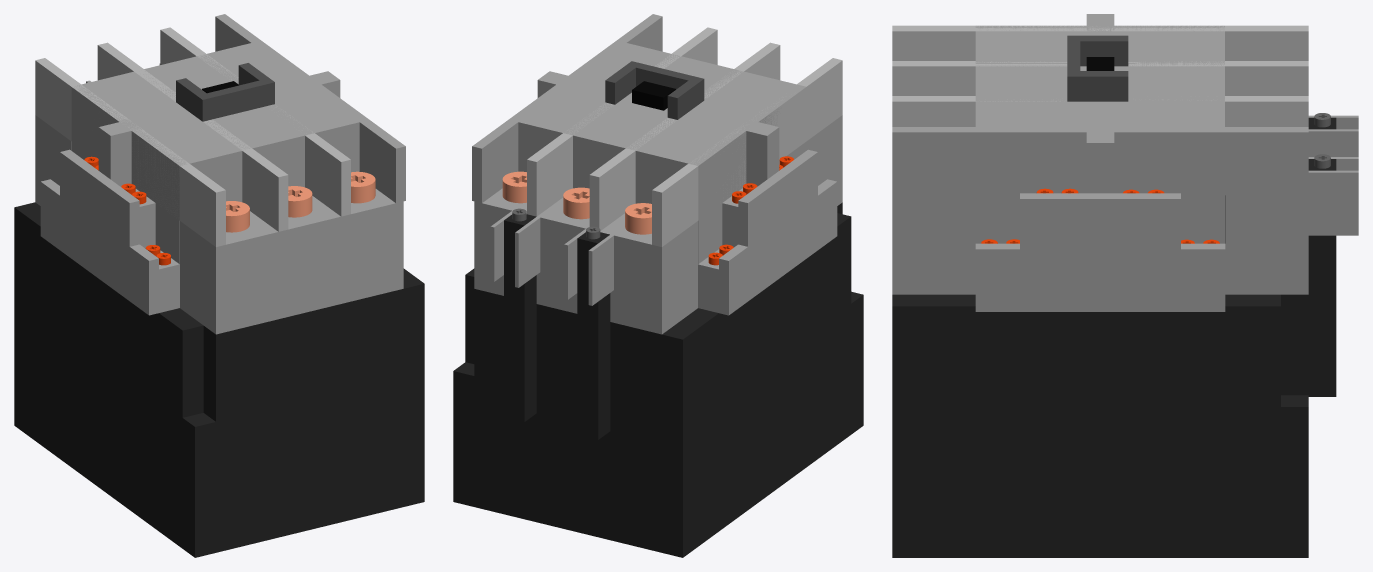
File: [2020]magnetic kontaktor.fbx
The picture shows the model from 3 angles, left to right: view 1: azimuth 30°, elevation 25°; view 2: azimuth 150°, elevation 25°; view 3: azimuth 270°, elevation 25°; orthographic projection. The views are drawn at different scales.
Visible parts, largest first — view 1: Group1, Group2, Group23, Group31, Group26, Group24, Group25, Group32, Group30, Group27, Group33, Group19 (+9 smaller); view 2: Group1, Group2, Group20, Group31, Group26, Group63, Group60, Group30, Group32, Group27, Group33, Group21 (+16 smaller); view 3: Group1, Group2, Group30, Group29, Group28, Group22, Group25, Group31, Group32, Group33, Group60, Group64 (+4 smaller).
Boxes of the visible parts, x1,y1,x2,y2 form: Group1: (14,202,424,557); Group2: (71,41,366,307); Group23: (180,211,278,334); Group31: (35,58,225,246); Group26: (40,179,158,315); Group24: (278,196,341,318); Group25: (341,189,403,303); Group32: (97,42,288,231); Group30: (215,14,405,203); Group27: (60,149,139,246); Group33: (160,27,350,216); Group19: (98,71,340,186); Group1: (453,202,863,557); Group2: (512,42,806,264); Group20: (600,213,697,334); Group31: (652,58,842,246); Group26: (719,179,837,315); Group63: (577,232,610,439); Group60: (504,214,536,421); Group30: (472,14,662,203); Group32: (589,42,780,230); Group27: (738,149,817,246); Group33: (527,27,717,216); Group21: (536,197,589,313); Group1: (892,195,1308,557); Group2: (975,25,1224,243); Group30: (892,127,1308,195); Group29: (975,243,1225,311); Group28: (1020,193,1180,261); Group22: (1225,195,1308,294); Group25: (892,195,975,294); Group31: (892,25,1308,60); Group32: (892,61,1308,95); Group33: (892,96,1308,126); Group60: (1308,159,1336,396); Group64: (1308,170,1358,235).
Bounding box in the file's own units: 11.95 × 17.5 × 16.8.
